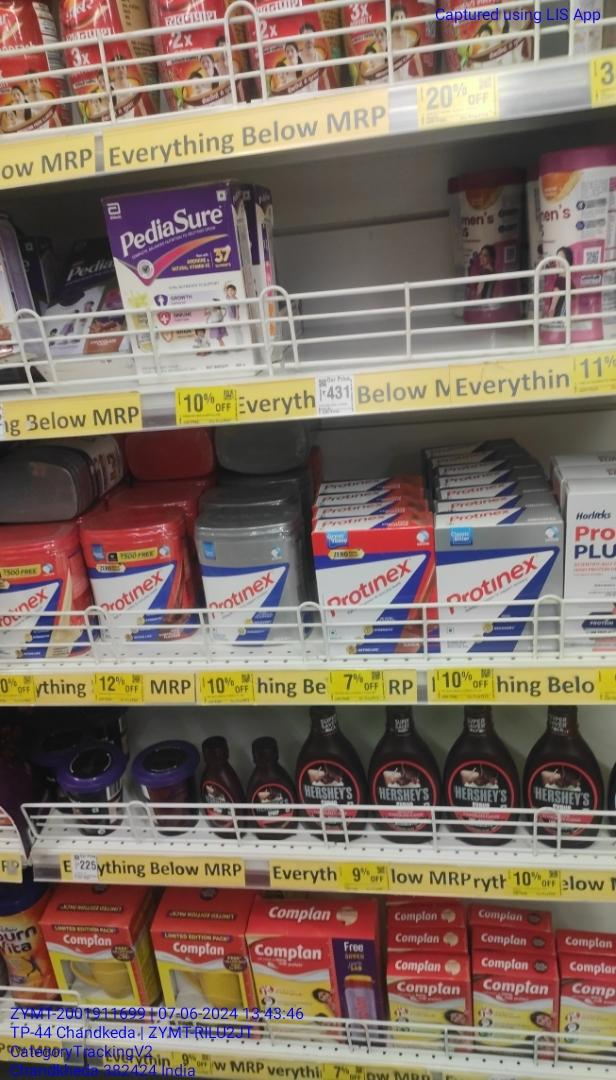COMPLAN_CHOCOLATE_500_GMS_PACK: (133, 180, 239, 371)
PROTINEX_CHOCOLATE_400_G_JAR: (83, 521, 184, 635)
PROTINEX_ORIGINAL_400_G_JAR: (199, 521, 291, 652)
PROTINEX_VANILLA_400_G_JAR: (0, 540, 78, 662)
